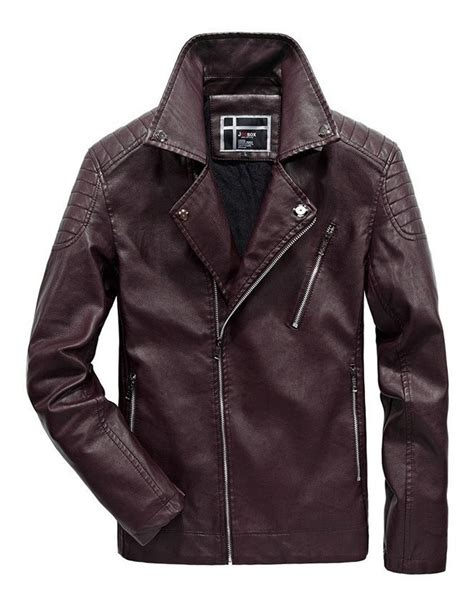cuero: (25, 32, 450, 577)
